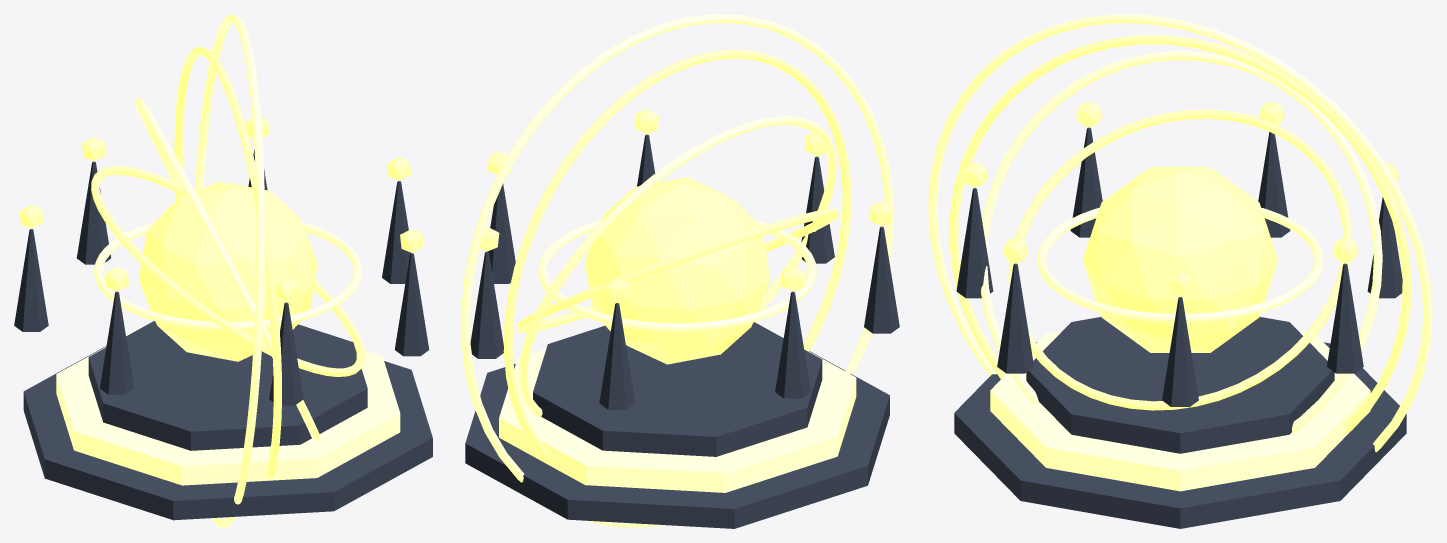
The model's file is gpu-blender-v49.glb.
3 renders of one model, left to right at view 1: azimuth 30°, elevation 25°; view 2: azimuth 150°, elevation 25°; view 3: azimuth 270°, elevation 25°, orthographic. The views are drawn at different scales.
Visible parts, largest first — view 1: Cylinder.002, Cylinder, SovereignCore_subsweep-lead-scanner, Cylinder.001, Torus.004, Torus.003, Torus.001, Torus, Torus.002, Cone.006, Cone.004, Cone.003 (+3 smaller); view 2: Cylinder.002, SovereignCore_subsweep-lead-scanner, Cylinder, Cylinder.001, Torus.004, Torus.003, Torus.002, Torus.001, Torus, Cone.004, Cone.003, Cone.002 (+4 smaller); view 3: SovereignCore_subsweep-lead-scanner, Cylinder.002, Cylinder, Cylinder.001, Torus.004, Torus.003, Torus.002, Torus.001, Torus, Cone.001, Cone.006, Cone (+4 smaller).
Part boxes in pixels (<box>): Cylinder.002: <box>88,321,367,450</box>; Cylinder: <box>23,346,432,520</box>; SovereignCore_subsweep-lead-scanner: <box>139,181,317,361</box>; Cylinder.001: <box>56,328,400,485</box>; Torus.004: <box>195,14,265,528</box>; Torus.003: <box>174,46,281,480</box>; Torus.001: <box>91,166,365,376</box>; Torus: <box>94,222,362,330</box>; Torus.002: <box>135,97,320,440</box>; Cone.006: <box>394,253,429,356</box>; Cone.004: <box>100,291,134,394</box>; Cone.003: <box>14,229,48,331</box>; Cylinder.002: <box>533,322,822,456</box>; SovereignCore_subsweep-lead-scanner: <box>585,177,770,364</box>; Cylinder: <box>465,351,889,528</box>; Cylinder.001: <box>499,330,856,492</box>; Torus.004: <box>461,14,894,527</box>; Torus.003: <box>503,49,851,463</box>; Torus.002: <box>518,116,836,417</box>; Torus.001: <box>516,208,838,332</box>; Torus: <box>538,219,816,332</box>; Cone.004: <box>864,226,899,333</box>; Cone.003: <box>775,291,810,398</box>; Cone.002: <box>599,303,634,409</box>; SovereignCore_subsweep-lead-scanner: <box>1083,167,1277,352</box>; Cylinder.002: <box>1026,317,1334,453</box>; Cylinder: <box>954,342,1406,528</box>; Cylinder.001: <box>990,330,1370,491</box>; Torus.004: <box>928,14,1432,452</box>; Torus.003: <box>949,35,1411,434</box>; Torus.002: <box>981,50,1382,433</box>; Torus.001: <box>1008,109,1352,410</box>; Torus: <box>1037,207,1323,322</box>; Cone.001: <box>1327,263,1363,373</box>; Cone.006: <box>997,263,1033,373</box>; Cone: <box>1162,297,1198,406</box>.
Size of the model in its own units: 4.41 by 5.33 by 4.9.
